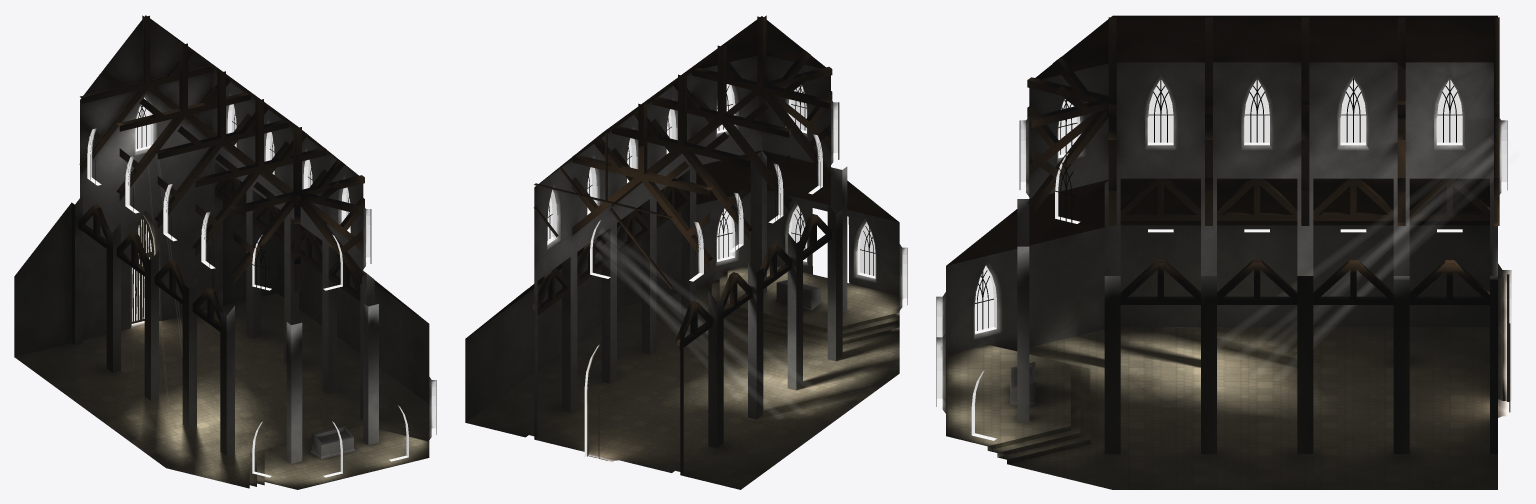
The model's file is mainRoom.glb.
3 renders of one model, left to right at view 1: azimuth 30°, elevation 25°; view 2: azimuth 150°, elevation 25°; view 3: azimuth 270°, elevation 25°, orthographic. The views are drawn at different scales.
Parts seen in each view (by area): view 1: BUILDING, vigueria, ventanas, door_door_0; view 2: BUILDING, vigueria, ventanas, sunbeams; view 3: BUILDING, vigueria, ventanas, sunbeams.
Part boxes in pixels (x1,y1,x2,y2): BUILDING: (14,15,436,489); vigueria: (78,15,364,331); ventanas: (132,105,350,321); door_door_0: (131,215,154,323); BUILDING: (465,16,907,489); vigueria: (533,15,832,350); ventanas: (547,84,875,276); sunbeams: (597,234,747,388); BUILDING: (936,15,1511,489); vigueria: (1027,17,1499,304); ventanas: (975,79,1462,331); sunbeams: (1326,140,1502,327).
Size of the model in its own units: 12 by 15.71 by 18.23.
6 materials, 3 textured.
